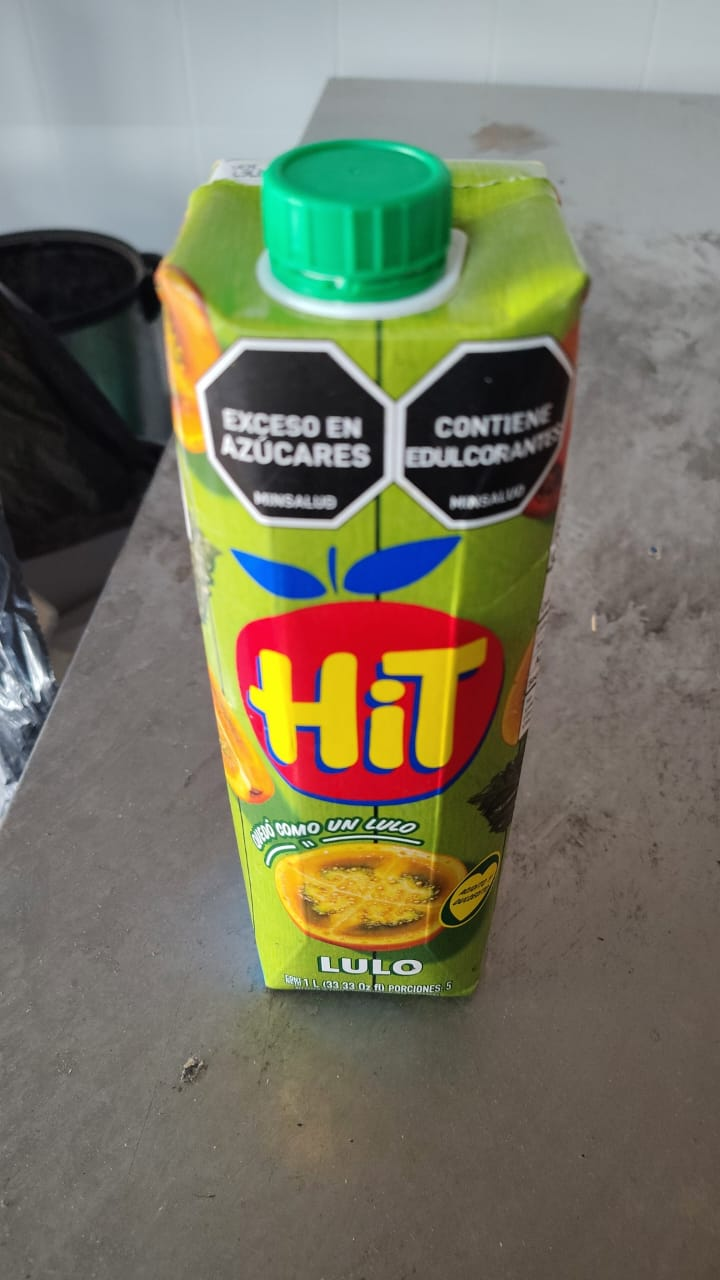Carton: (161, 157, 593, 996)
